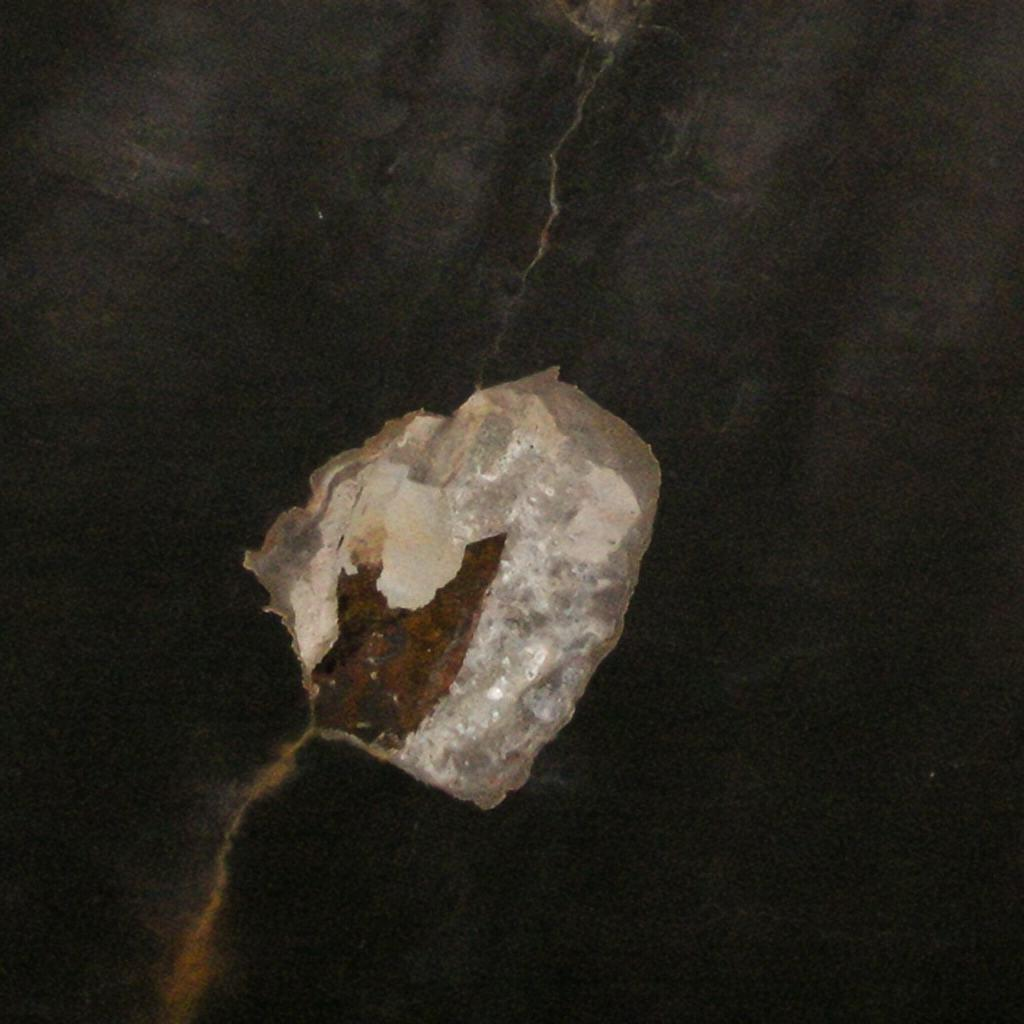exposed_rebar: (312, 534, 506, 747)
spalling: (246, 370, 660, 807)
